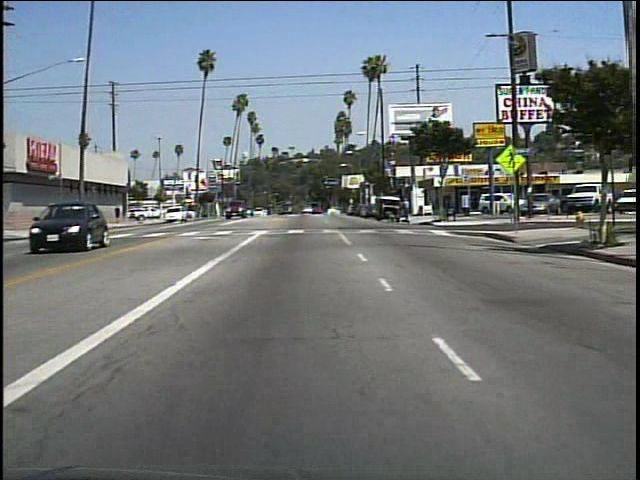person: (400, 194, 415, 225), (111, 199, 124, 225), (384, 208, 401, 227)
